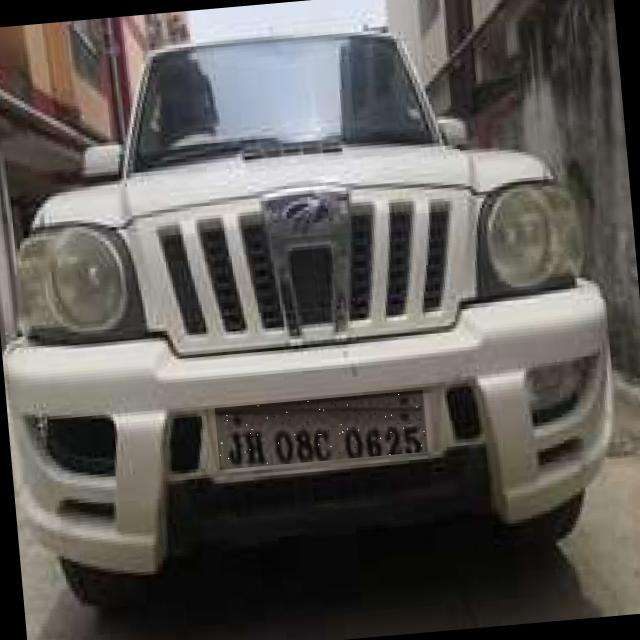Plate: (216, 391, 431, 471)
